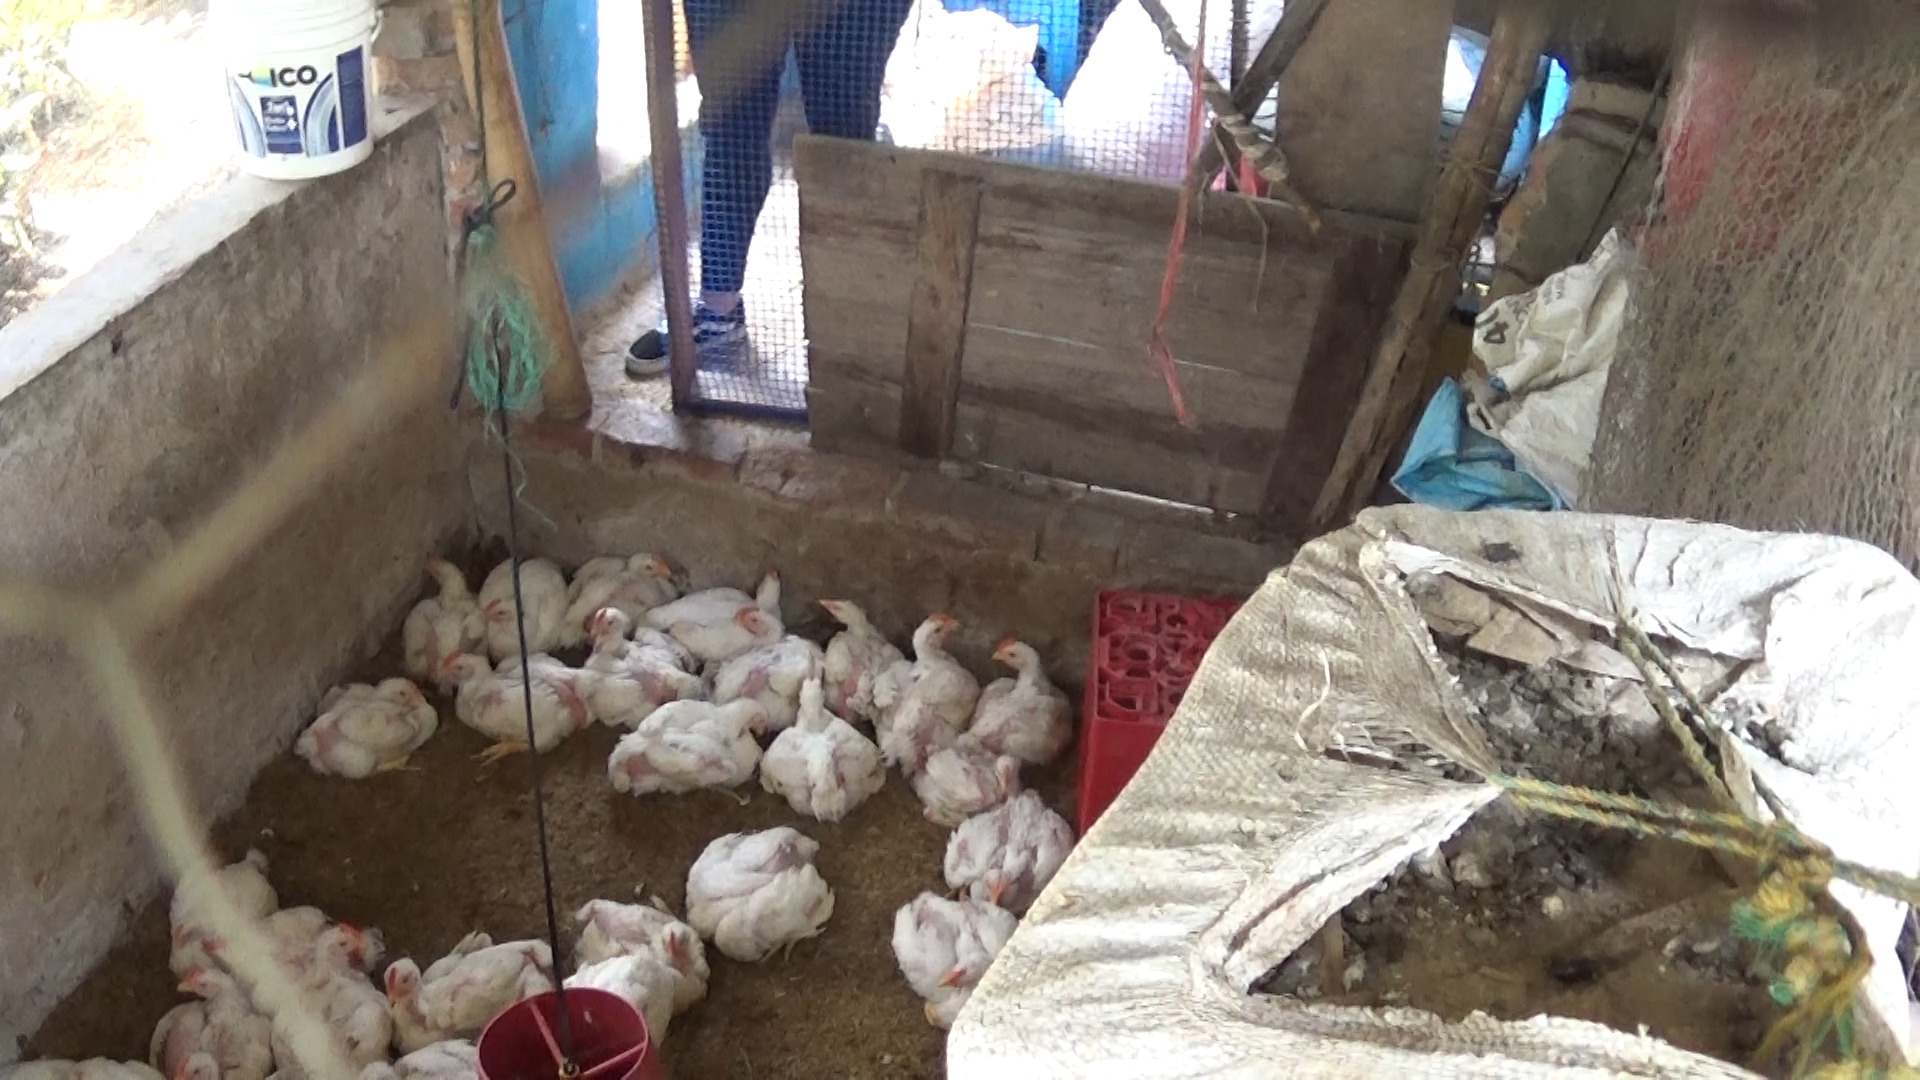Pollos: (679, 827, 845, 965), (605, 695, 775, 811), (886, 695, 1022, 839), (272, 924, 400, 1076), (864, 609, 981, 771), (373, 942, 551, 1044), (890, 890, 1025, 1026), (764, 666, 887, 811), (939, 787, 1076, 918), (438, 647, 589, 761), (574, 893, 713, 1011), (961, 625, 1083, 760), (138, 965, 277, 1080), (715, 597, 824, 735), (302, 673, 438, 778), (553, 549, 688, 647), (647, 564, 786, 661), (579, 611, 699, 713), (465, 545, 571, 661), (814, 585, 899, 713), (401, 549, 481, 682)
